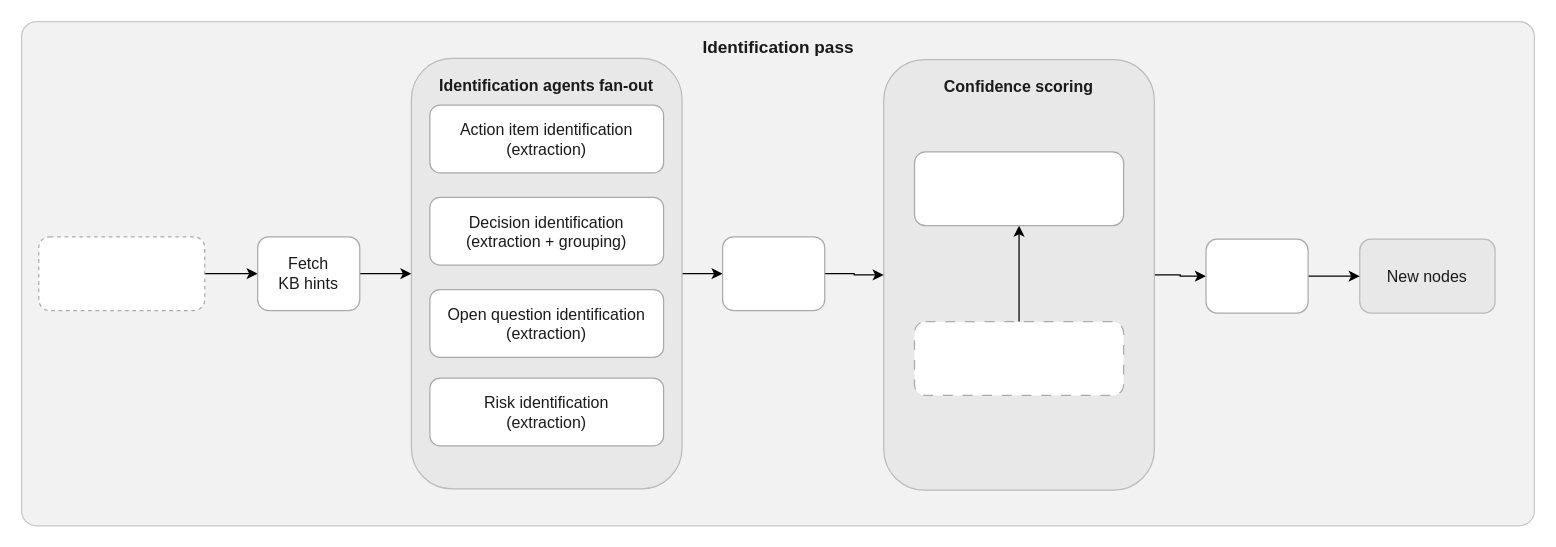
Image size: 1556x547. Some labels were removed from this diagram. Here are the shapes that lost their labels. From the top down, the centre of each, then its label:
At pixel 1018 188: "Heuristics scoring".
At pixel 121 273: "Transcript (from Ingestion step)".
At pixel 773 273: "Deduplication".
At pixel 1256 275: "Status update".
At pixel 1018 357: "Grounding agent (verification)".
